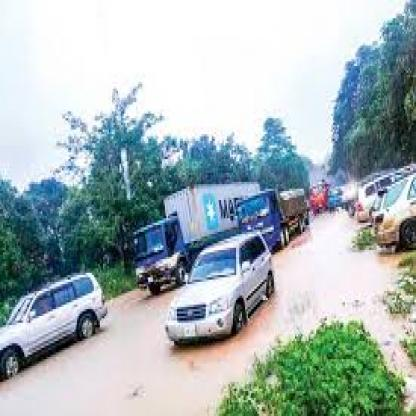car: (117, 182, 264, 292), (162, 228, 284, 356), (0, 264, 117, 390), (229, 181, 320, 248), (348, 171, 416, 258)
